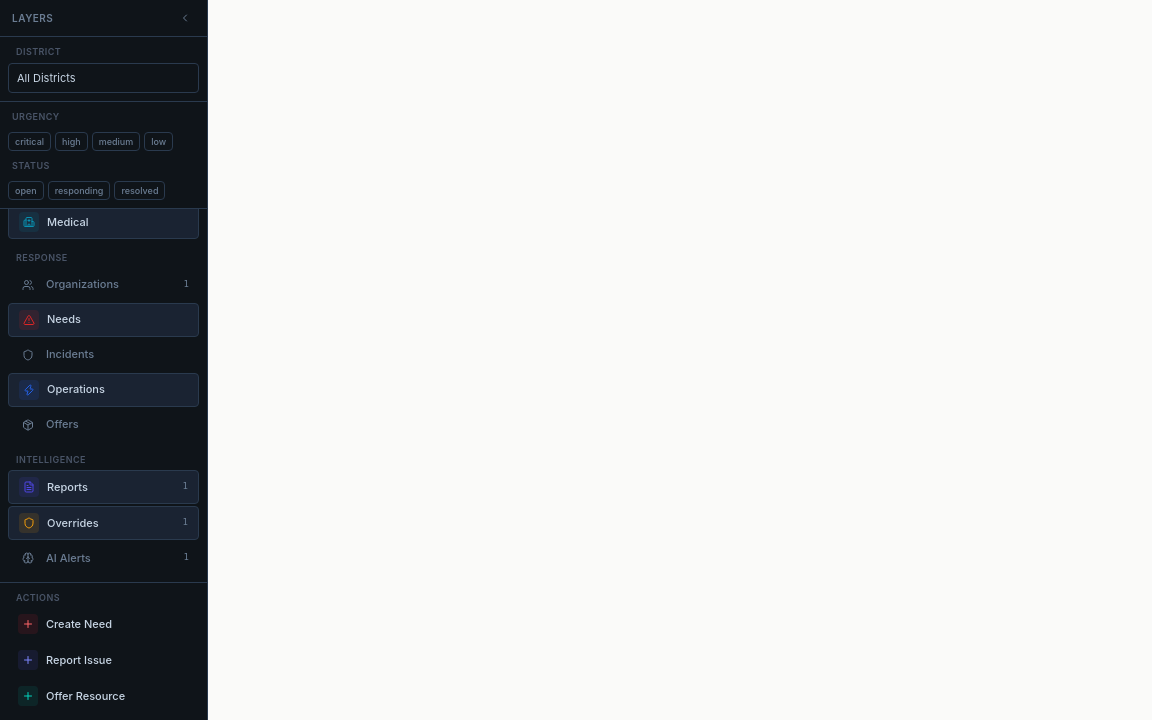
it: ReliefOS Operational Map Controls UI/UX Verification › 5. Overrides toggle opens Active Overrides context panel
(page scrolled)
Click the button with test id "layer-overrides": click(104, 523) [8, 506, 199, 540]
Wait 200 ms
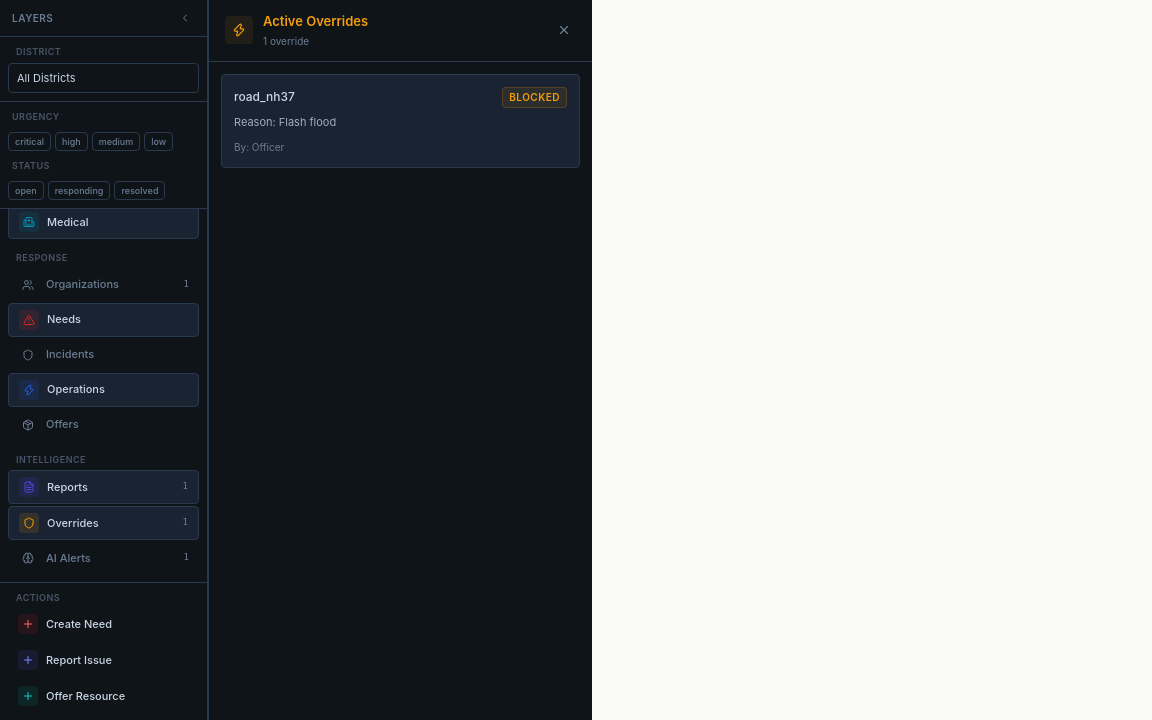
Expected: the heading "Active Overrides" is shown, [263, 12, 368, 32]
Expected: the text "road_nh37" is shown, [234, 88, 295, 106]
